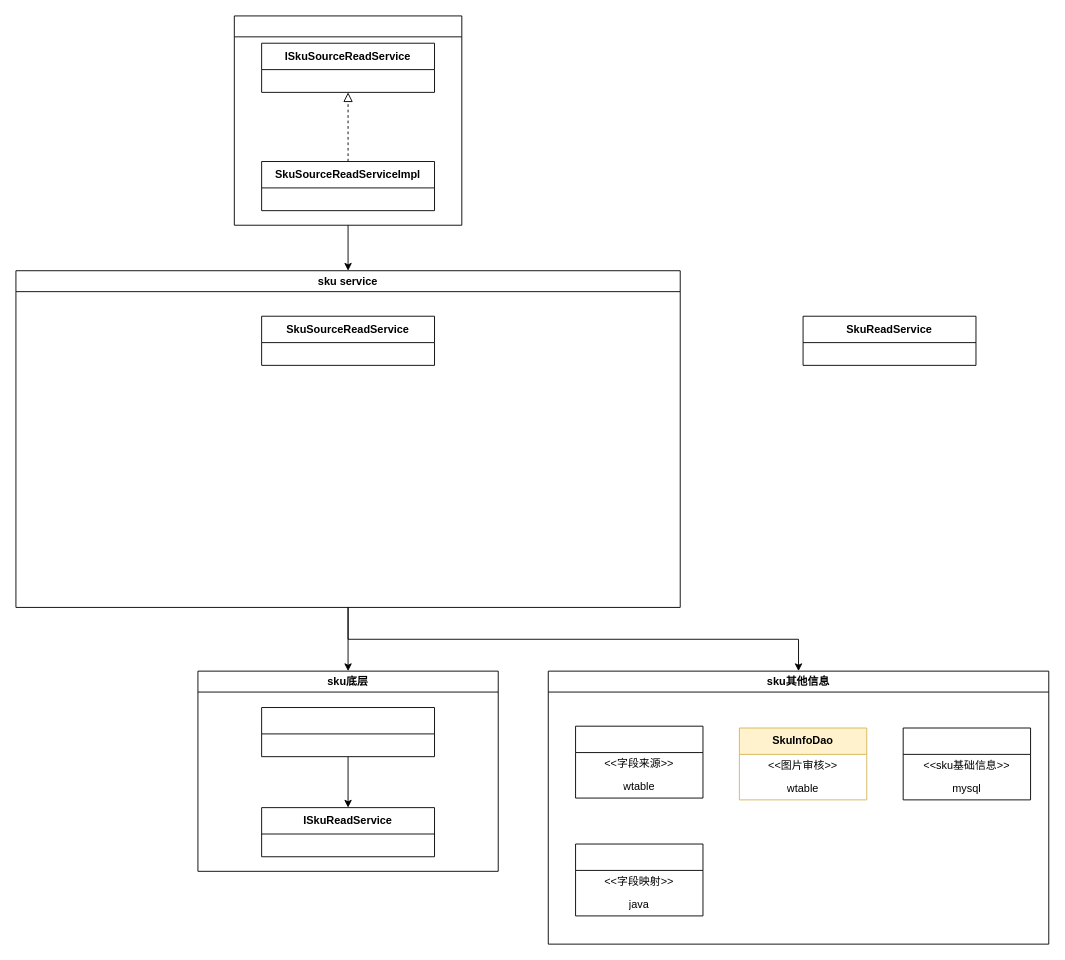
This 1065x960 diagram has some shape labels left out. Here are the shapes that lost their labels. From the top down, the box of each, then its label:
(233, 15, 462, 225): sku scf
(261, 707, 435, 757): SkuReadDao
(575, 725, 703, 798): SkuAdditionDao
(902, 727, 1031, 800): SkuBaseDao
(575, 843, 703, 916): SkuInfoMapper
